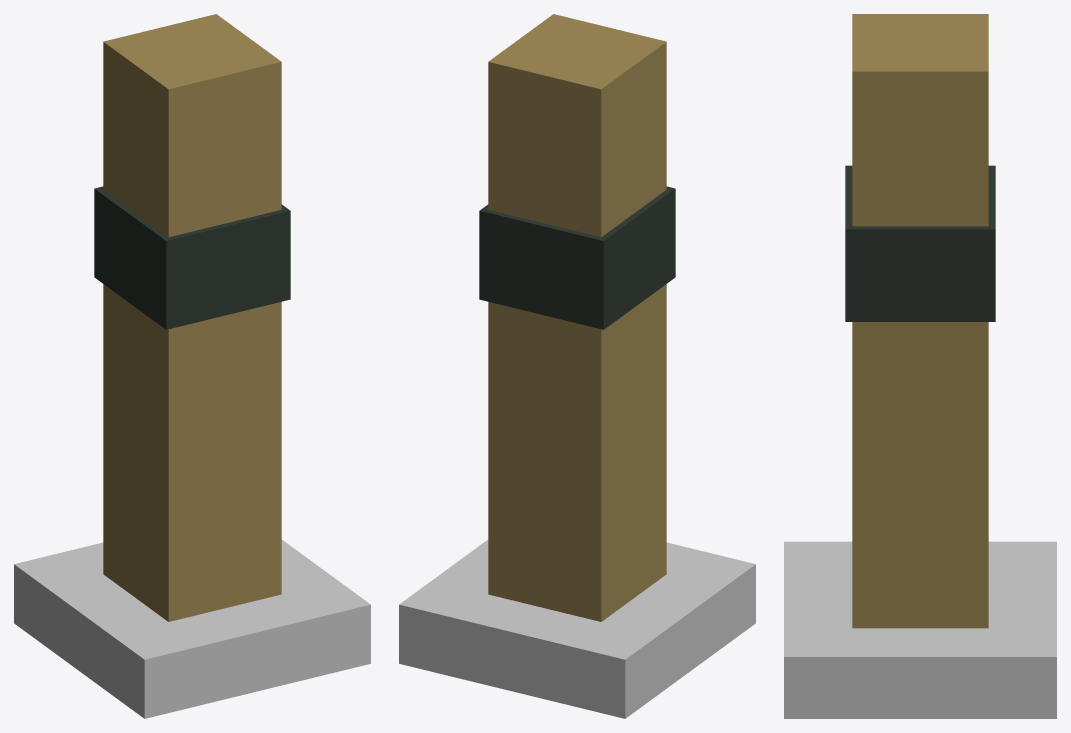
File: bollard.gltf
3 renders of one model, left to right at view 1: azimuth 30°, elevation 25°; view 2: azimuth 150°, elevation 25°; view 3: azimuth 270°, elevation 25°, orthographic. The views are drawn at different scales.
Parts seen in each view (by area): view 1: post, base, band; view 2: post, base, band; view 3: post, base, band.
Part boxes in pixels (x1,y1,x2,y2): post: [103, 14, 281, 621]; base: [14, 539, 370, 718]; band: [94, 186, 290, 329]; post: [488, 14, 666, 621]; base: [399, 539, 755, 718]; band: [479, 186, 675, 329]; post: [852, 14, 988, 628]; base: [784, 541, 1056, 718]; band: [845, 165, 995, 321].
Size of the model in its own units: 0.5 by 1.25 by 0.5.
